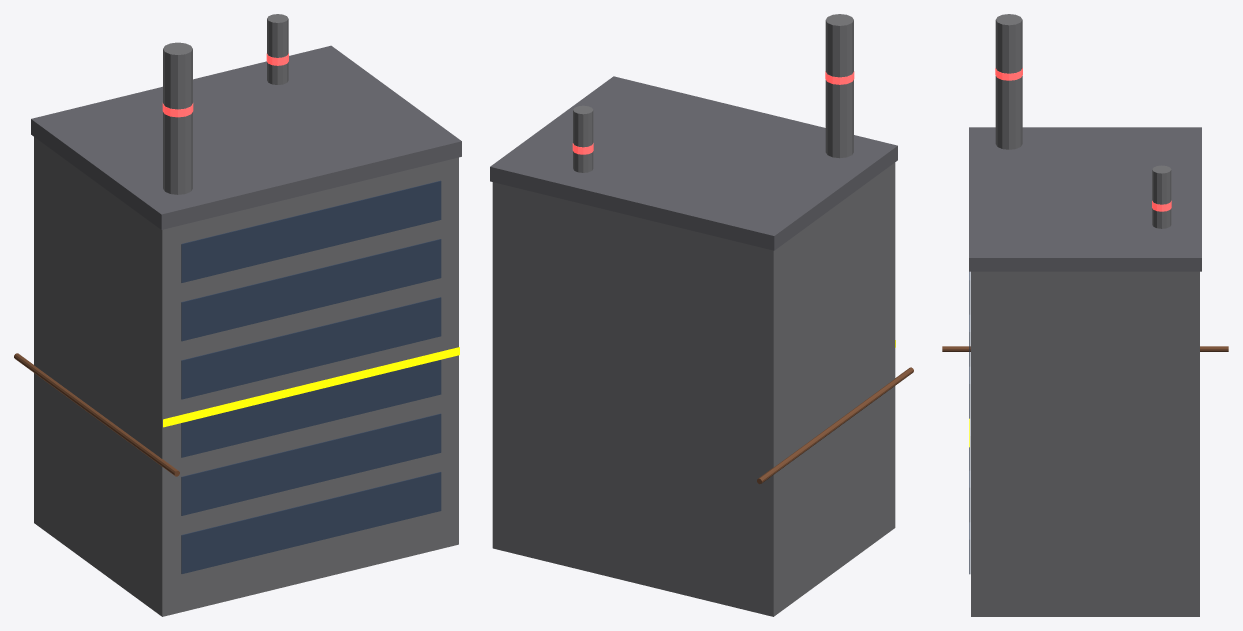
Rendered from HARBOR_BLD_Factory_MD.glb.
3 views of the same model, side by side, from view 1: azimuth 30°, elevation 25°; view 2: azimuth 150°, elevation 25°; view 3: azimuth 270°, elevation 25° (orthographic). The views are drawn at different scales.
Visible parts, largest first — view 1: HARBOR_BLD_Factory_MD; view 2: HARBOR_BLD_Factory_MD; view 3: HARBOR_BLD_Factory_MD.
Boxes of the visible parts, x1,y1,x2,y2 form: HARBOR_BLD_Factory_MD: (14,14,461,616); HARBOR_BLD_Factory_MD: (490,14,913,616); HARBOR_BLD_Factory_MD: (942,14,1228,616).
Bounding box in the file's own units: 16.3 × 28 × 15.
